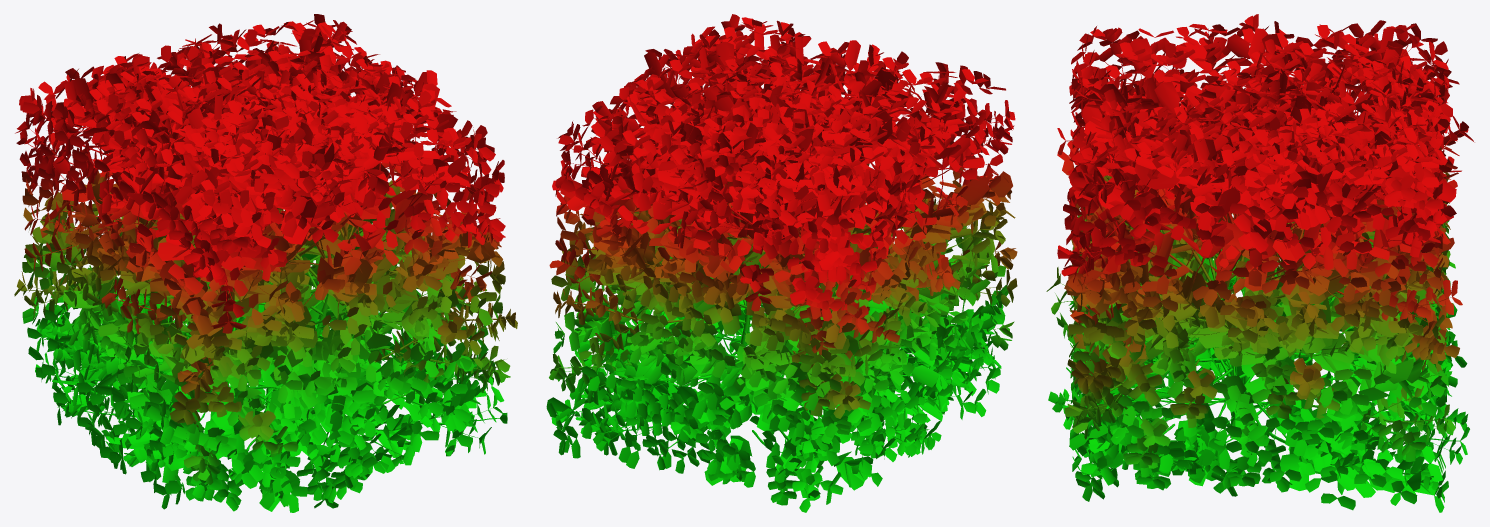
Rendered from Var6_LOD3.fbx.
The picture shows the model from 3 angles, left to right: view 1: azimuth 30°, elevation 25°; view 2: azimuth 150°, elevation 25°; view 3: azimuth 270°, elevation 25°; orthographic projection. The views are drawn at different scales.
Visible parts, largest first — view 1: _5ppx_Var6_LOD3; view 2: _5ppx_Var6_LOD3; view 3: _5ppx_Var6_LOD3.
Part boxes in pixels (x1=…): _5ppx_Var6_LOD3: x1=14, y1=14, x2=517, y2=512; _5ppx_Var6_LOD3: x1=546, y1=14, x2=1017, y2=512; _5ppx_Var6_LOD3: x1=1046, y1=14, x2=1474, y2=512.
Size of the model in its own units: 62.92 by 60.4 by 64.09.
